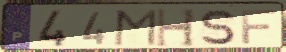4: (36, 8, 69, 49), (81, 10, 107, 46)
F: (240, 8, 278, 46)
H: (154, 7, 197, 49)
M: (112, 8, 159, 47)
S: (198, 8, 237, 46)
